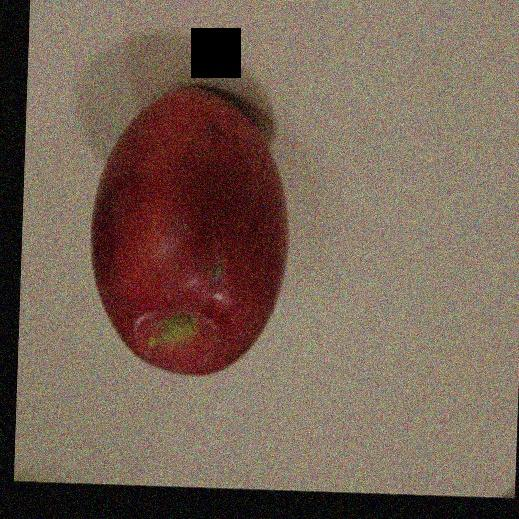red apple: (91, 85, 292, 378)
